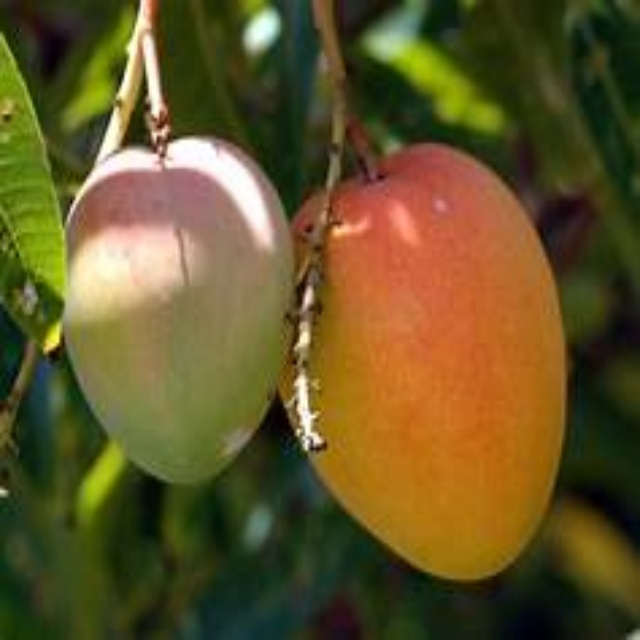mango: (285, 145, 564, 585), (68, 139, 302, 496)
